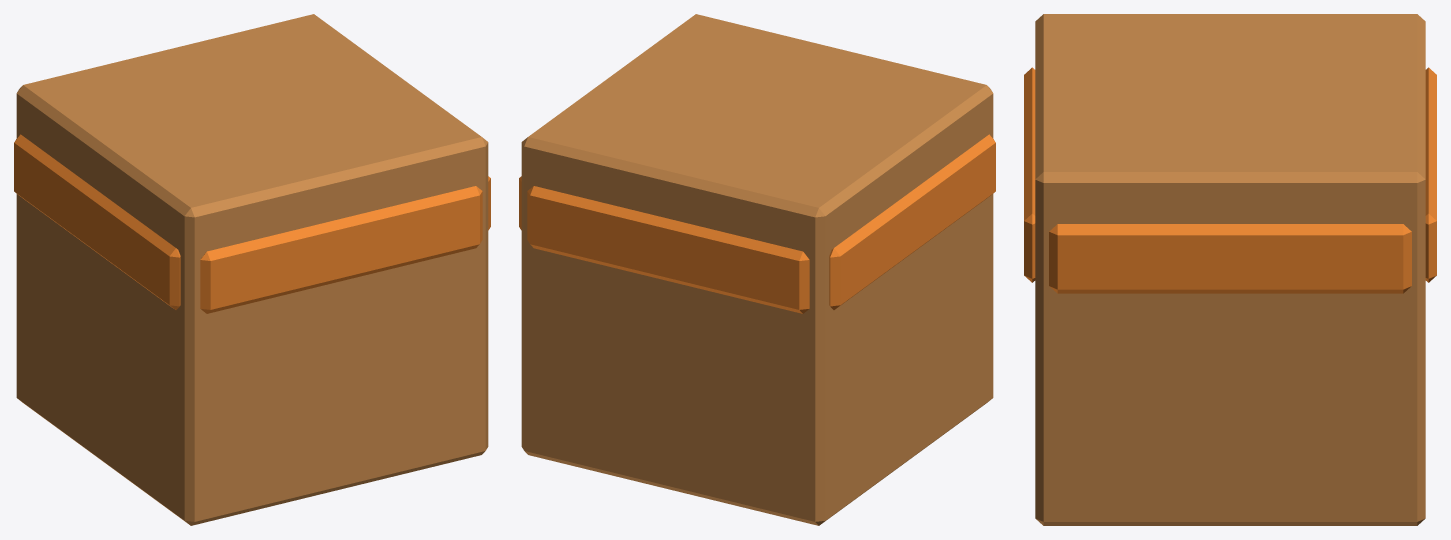
File: toy_crate.glb
3 views of the same model, side by side, from view 1: azimuth 30°, elevation 25°; view 2: azimuth 150°, elevation 25°; view 3: azimuth 270°, elevation 25° (orthographic). The views are drawn at different scales.
Parts seen in each view (by area): view 1: toy_crate; view 2: toy_crate; view 3: toy_crate.
Boxes of the visible parts, x1,y1,x2,y2 form: toy_crate: [14, 14, 490, 525]; toy_crate: [519, 14, 995, 525]; toy_crate: [1024, 14, 1436, 525].
Bounding box in the file's own units: 0.296 × 0.28 × 0.296.
